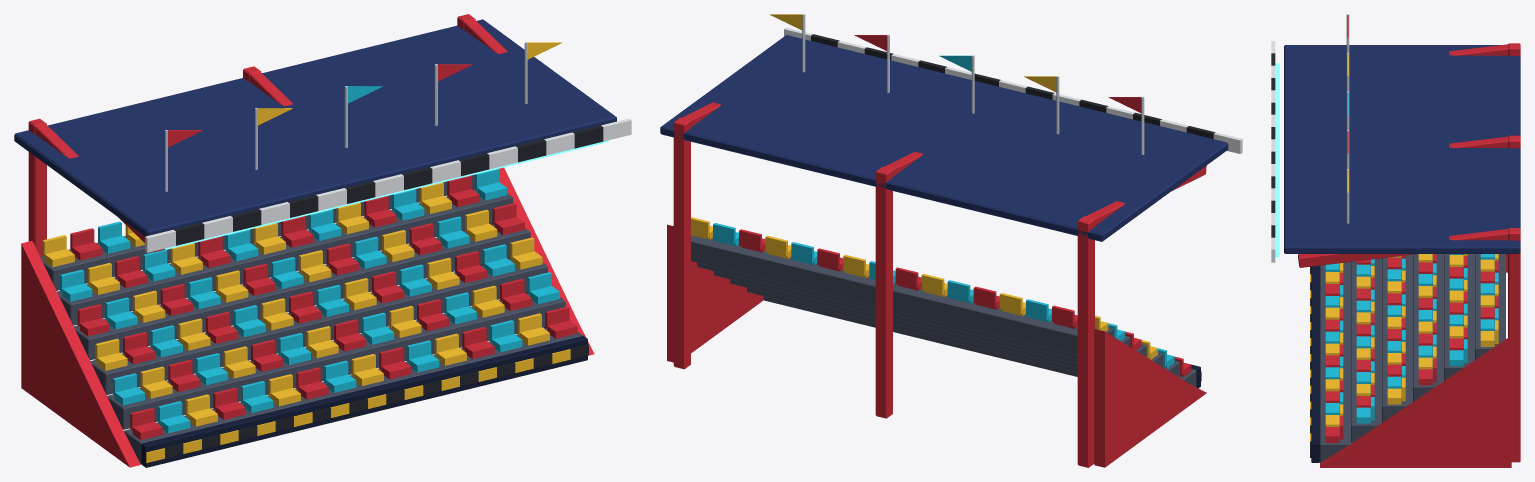
The model's file is Grandstand.fbx.
The picture shows the model from 3 angles, left to right: view 1: azimuth 30°, elevation 25°; view 2: azimuth 150°, elevation 25°; view 3: azimuth 270°, elevation 25°; orthographic projection. The views are drawn at different scales.
Visible parts, largest first — view 1: Grandstand, Neon_Cyan; view 2: Grandstand; view 3: Grandstand, Neon_Cyan.
Part boxes in pixels (left/top/right/bottom): Grandstand: left=14, top=14, right=631, bottom=467; Neon_Cyan: left=165, top=140, right=608, bottom=249; Grandstand: left=660, top=14, right=1242, bottom=467; Grandstand: left=1271, top=14, right=1520, bottom=467; Neon_Cyan: left=1275, top=63, right=1279, bottom=257.
Size of the model in its own units: 35.02 by 21.6 by 17.7.
2 materials, 1 textured.
